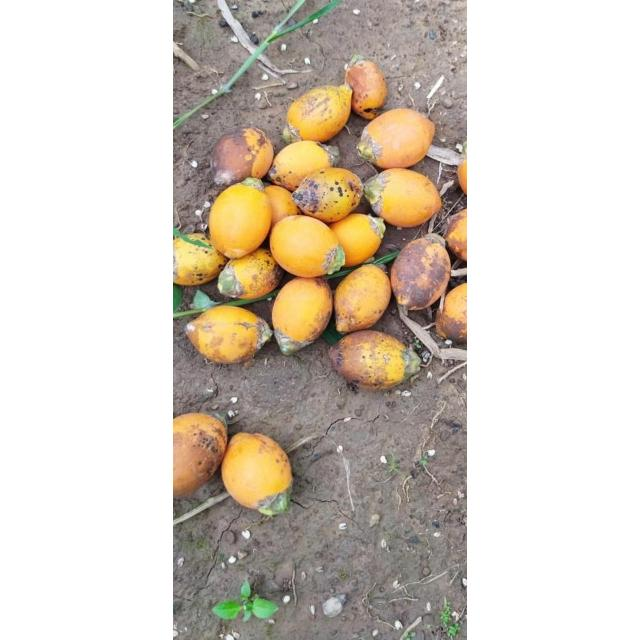good: (221, 432, 292, 520), (330, 330, 422, 392), (208, 182, 273, 261), (173, 413, 227, 500), (391, 236, 451, 314), (362, 109, 436, 172), (272, 279, 332, 356), (186, 306, 263, 366), (216, 242, 286, 307), (270, 216, 338, 280), (374, 168, 442, 232), (291, 167, 365, 224), (334, 263, 390, 337), (286, 85, 352, 143), (213, 127, 275, 188), (327, 212, 386, 270), (266, 140, 331, 192), (173, 232, 224, 290)
